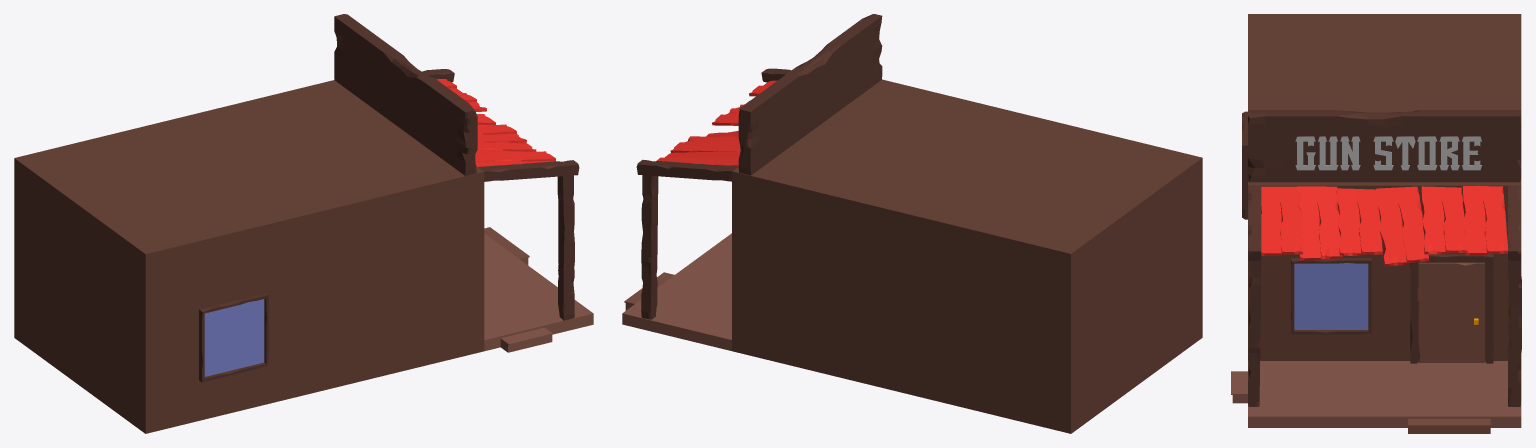
File: Gun-Store.fbx
3 views of the same model, side by side, from view 1: azimuth 30°, elevation 25°; view 2: azimuth 150°, elevation 25°; view 3: azimuth 270°, elevation 25° (orthographic). The views are drawn at different scales.
Parts seen in each view (by area): view 1: Cube, Sign, Portch, Beams, Window, Roof, Frame, Stepps; view 2: Cube, Sign, Portch, Beams, Roof; view 3: Cube, Roof, Sign, Portch, Door, Beams, Window, Frame, Text, Stepps.
Part boxes in pixels (x1,y1,x2,y2): Cube: (14, 80, 484, 433); Sign: (334, 14, 477, 175); Portch: (484, 233, 593, 351); Beams: (422, 69, 579, 320); Window: (204, 299, 264, 376); Roof: (436, 79, 555, 166); Frame: (199, 293, 268, 382); Stepps: (484, 227, 552, 352); Cube: (732, 79, 1202, 433); Sign: (738, 14, 882, 175); Portch: (622, 233, 731, 350); Beams: (636, 68, 790, 319); Roof: (656, 80, 776, 166); Cube: (1248, 14, 1521, 360); Roof: (1261, 184, 1507, 266); Sign: (1248, 110, 1521, 182); Portch: (1248, 361, 1521, 427); Door: (1417, 262, 1484, 362); Beams: (1248, 185, 1521, 406); Window: (1294, 263, 1368, 329); Frame: (1242, 111, 1493, 363); Text: (1295, 136, 1481, 170); Stepps: (1231, 371, 1490, 433).
Bounding box in the file's own units: 1014 × 512 × 533.
